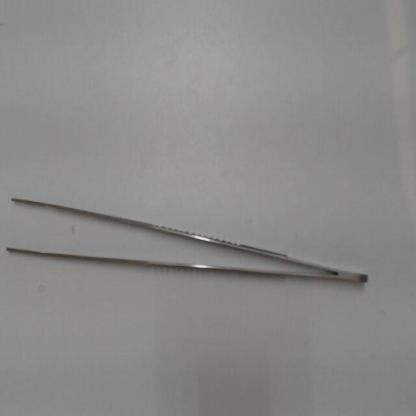DeBakey Dissector: (3, 182, 379, 295)
